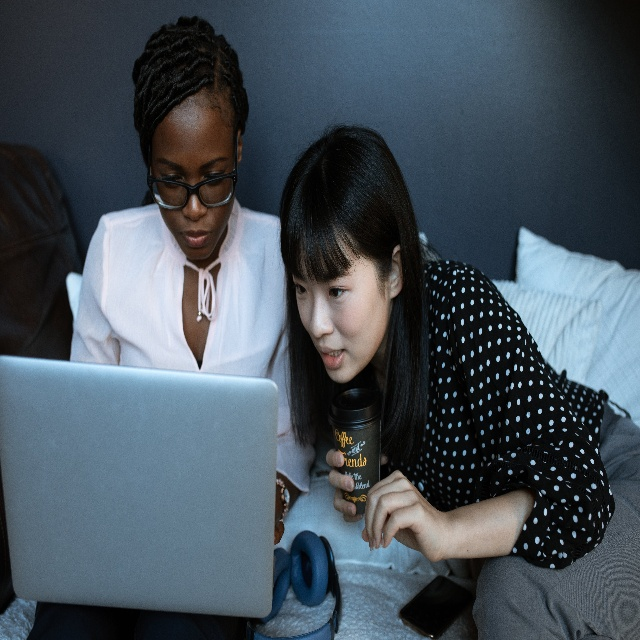Gafas: (146, 152, 237, 211)
Sin_guantes: (361, 469, 445, 563), (324, 448, 364, 523)
